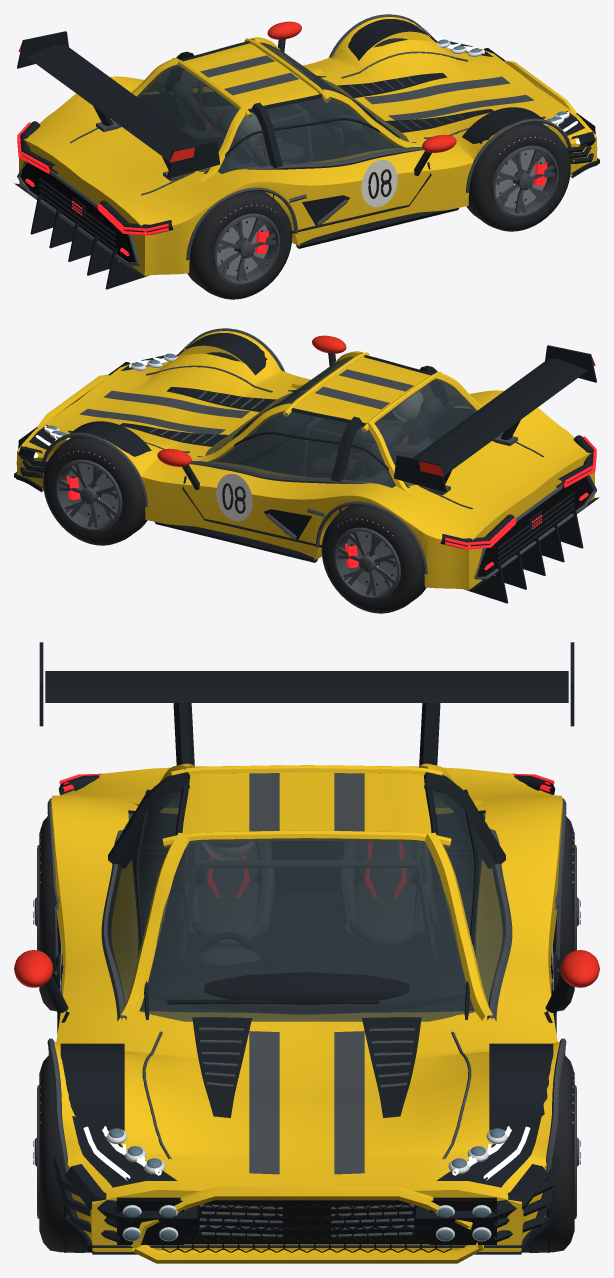
The model's file is fleet-0.glb.
The picture shows the model from 3 angles, top to bottom: view 1: azimuth 30°, elevation 25°; view 2: azimuth 150°, elevation 25°; view 3: azimuth 270°, elevation 25°; orthographic projection. The views are drawn at different scales.
Parts seen in each view (by area): view 1: GT_body, GT_glazing, GT_tyre, GT_rear_wing, GT_roof, GT_diffuser_fin, GT_wheelwell_liner, GT_roof_pillar.001, GT_rear_fascia, GT_alloy_disc, GT_hood_race_stripe, GT_wheel_spoke (+32 smaller); view 2: GT_body, GT_glazing, GT_tyre, GT_rear_wing, GT_roof, GT_diffuser_fin, GT_wheelwell_liner, GT_cockpit_floor, GT_roof_pillar.001, GT_rear_fascia, GT_alloy_disc, GT_hood_race_stripe (+33 smaller); view 3: GT_body, GT_glazing, GT_rear_wing, GT_dashboard, GT_tyre, GT_cockpit_floor, GT_roof, GT_wheelwell_liner, GT_hood_race_stripe, GT_front_cowl, GT_bonnet_extractor, GT_bucket_base (+30 smaller).
Part boxes in pixels (box(x1,y1,x2,y2)): GT_body: box(19, 17, 597, 276); GT_glazing: box(136, 42, 408, 173); GT_tyre: box(188, 38, 570, 299); GT_rear_wing: box(26, 44, 200, 161); GT_roof: box(183, 43, 318, 109); GT_diffuser_fin: box(30, 196, 148, 289); GT_wheelwell_liner: box(348, 19, 572, 164); GT_roof_pillar.001: box(131, 37, 422, 181); GT_rear_fascia: box(20, 162, 135, 262); GT_alloy_disc: box(217, 149, 547, 275); GT_hood_race_stripe: box(364, 76, 534, 120); GT_wheel_spoke: box(217, 150, 554, 281); GT_body: box(16, 331, 594, 590); GT_glazing: box(205, 356, 477, 487); GT_tyre: box(43, 352, 425, 613); GT_rear_wing: box(413, 358, 587, 475); GT_roof: box(295, 357, 430, 423); GT_diffuser_fin: box(465, 510, 583, 603); GT_wheelwell_liner: box(41, 333, 267, 478); GT_cockpit_floor: box(240, 421, 414, 487); GT_roof_pillar.001: box(191, 351, 482, 495); GT_rear_fascia: box(477, 476, 593, 576); GT_alloy_disc: box(66, 463, 396, 589); GT_hood_race_stripe: box(79, 390, 249, 434); GT_body: box(51, 766, 562, 1251); GT_glazing: box(107, 774, 506, 1021); GT_rear_wing: box(45, 671, 568, 702); GT_dashboard: box(148, 958, 465, 1014); GT_tyre: box(39, 816, 574, 1252); GT_cockpit_floor: box(135, 893, 478, 1012); GT_roof: box(182, 772, 431, 833); GT_wheelwell_liner: box(60, 1043, 553, 1197); GT_hood_race_stripe: box(249, 1031, 364, 1174); GT_front_cowl: box(130, 1187, 483, 1263); GT_bonnet_extractor: box(192, 1017, 421, 1117); GT_bucket_base: box(191, 881, 422, 947).
Size of the model in its own units: 0.319 by 0.1083 by 0.1928.
